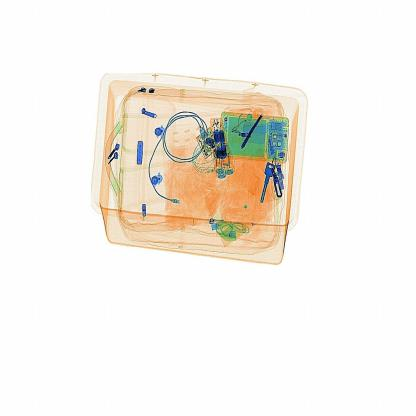knife: (234, 96, 272, 160)
